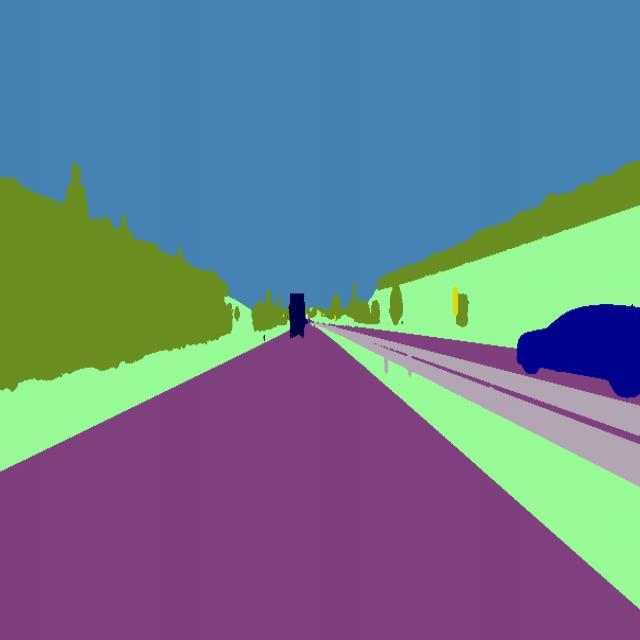safe: (511, 295, 640, 415), (286, 288, 308, 344)
